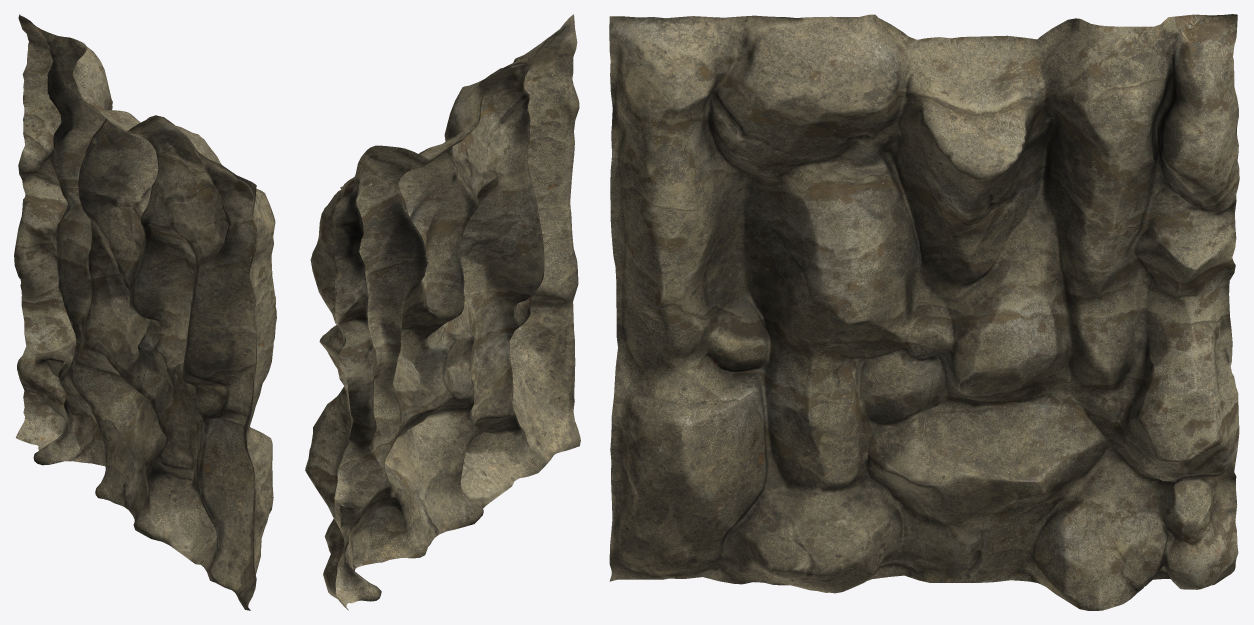
The model's file is cave_saltmine_jagged_wall_flat_02.dae.
3 views of the same model, side by side, from view 1: azimuth 30°, elevation 25°; view 2: azimuth 150°, elevation 25°; view 3: azimuth 270°, elevation 25° (orthographic). The views are drawn at different scales.
Parts seen in each view (by area): view 1: wall_2_low; view 2: wall_2_low; view 3: wall_2_low.
Part boxes in pixels (<box>): wall_2_low: <box>14,14,276,610</box>; wall_2_low: <box>305,14,580,610</box>; wall_2_low: <box>609,14,1239,610</box>.
Bounding box in the file's own units: 0.8649 × 4.02 × 4.02.
